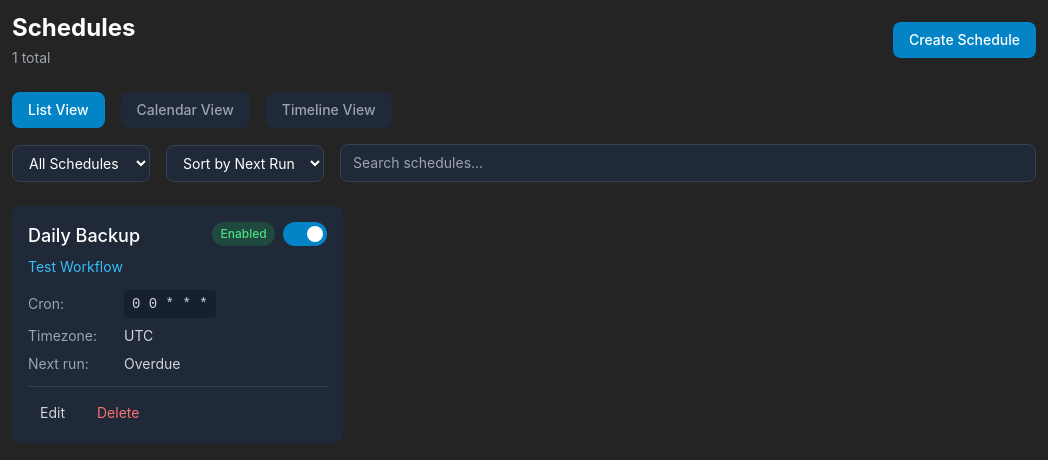
Test case: Schedules Page › should switch to timeline view
Click the button "Timeline View". click: (329, 110)
box: left=266, top=92, right=392, bottom=128
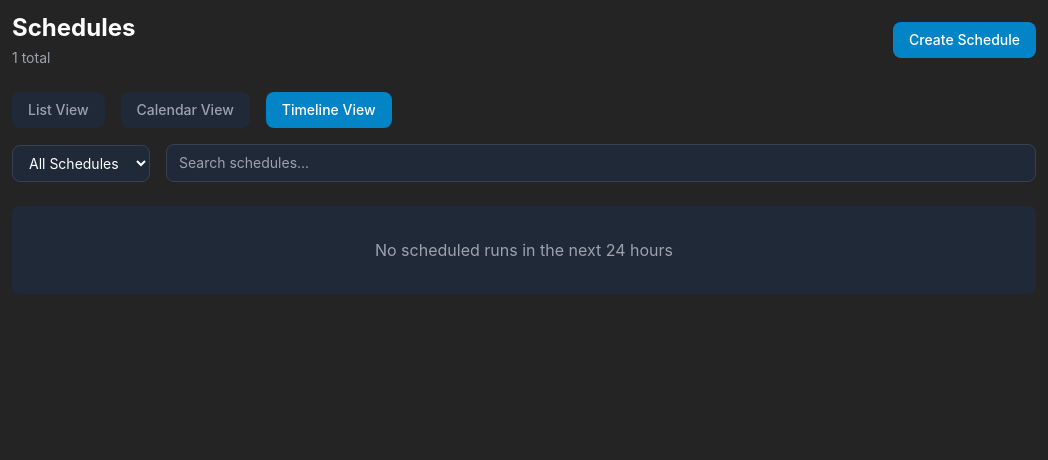
Expected: the text "No scheduled runs in the next 24 hours" is shown, left=375, top=240, right=673, bottom=260
